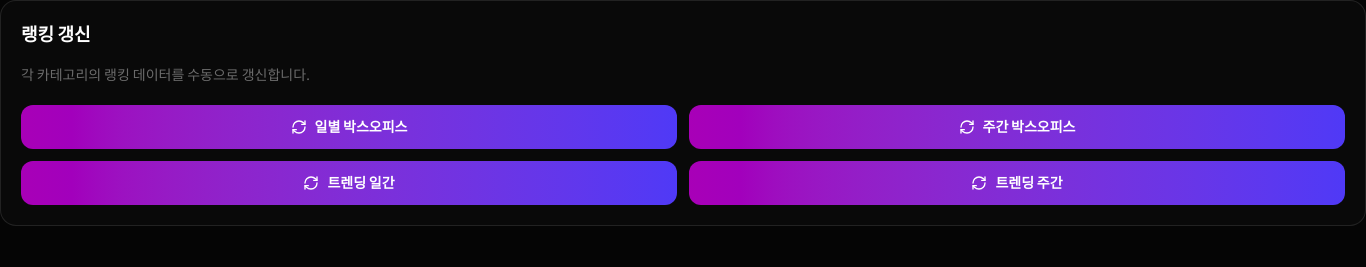
Test case: RankingRefresh › 실패 시 에러 메시지를 표시해야 한다
The image size is (1366, 267).
Click the button "트렌딩 일간" at (349, 183), box left=21, top=161, right=677, bottom=205
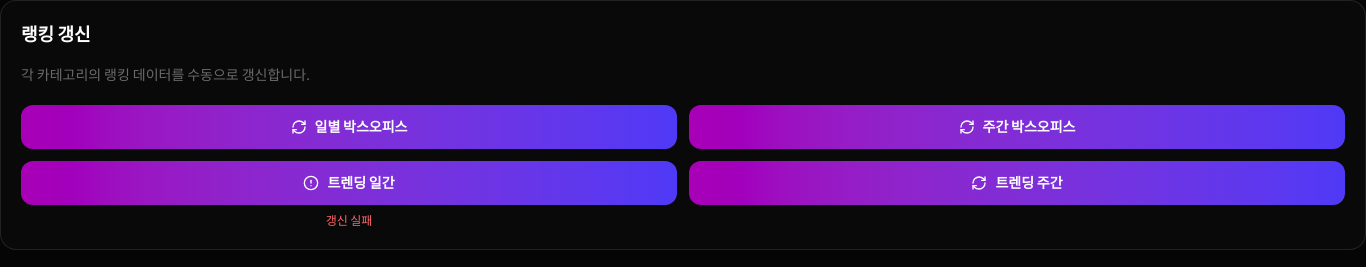
Now the text "갱신 실패" is shown, box left=326, top=213, right=372, bottom=228
